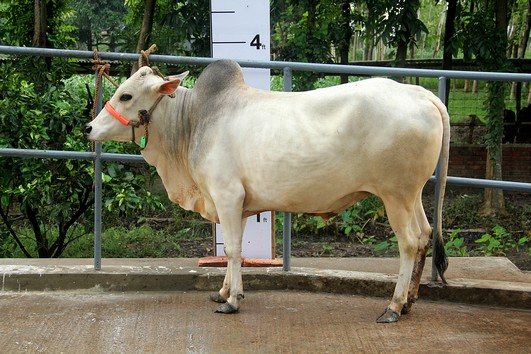cow: (80, 53, 457, 325)
